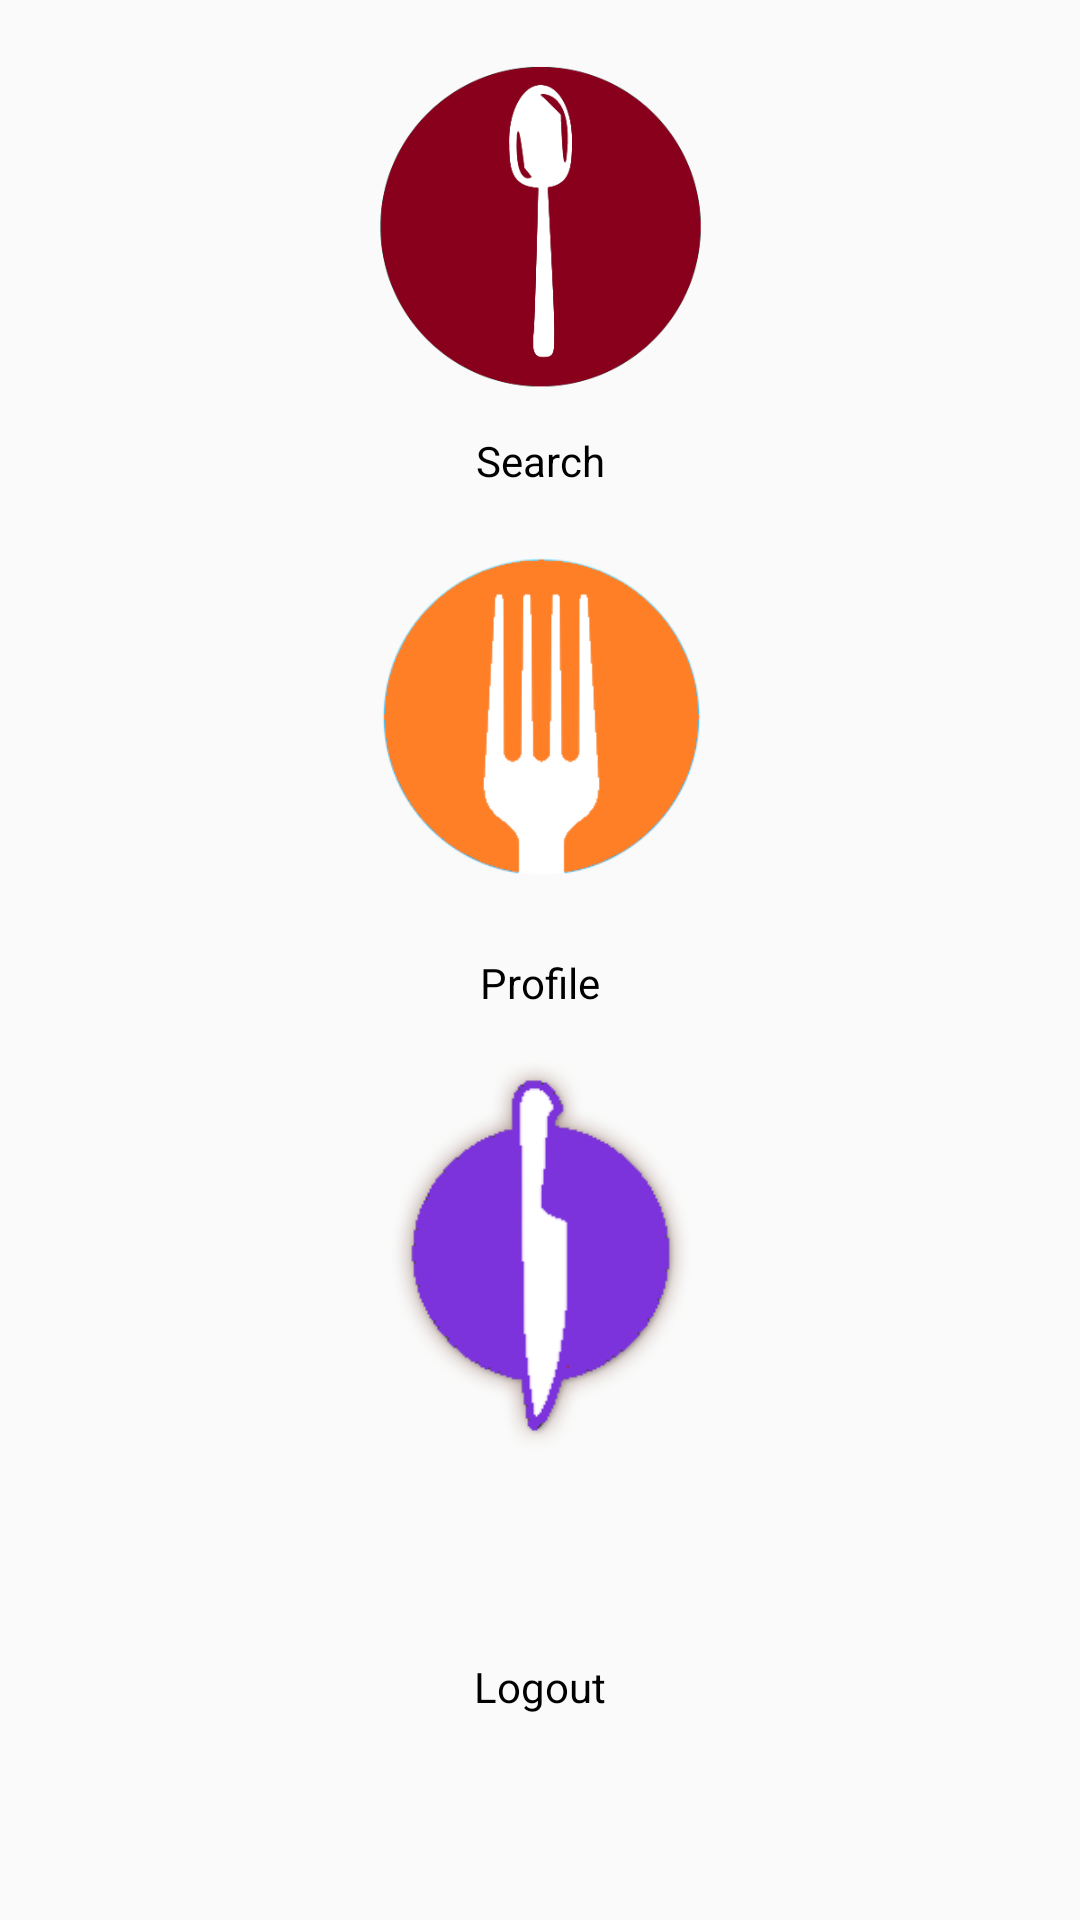

Icon bounding boxes for this 1080 x 1920 phone screenshot, format (x1, y1, x2, y2):
fork: (383, 559, 700, 874)
knife: (404, 1074, 678, 1434)
spoon: (380, 67, 701, 387)
